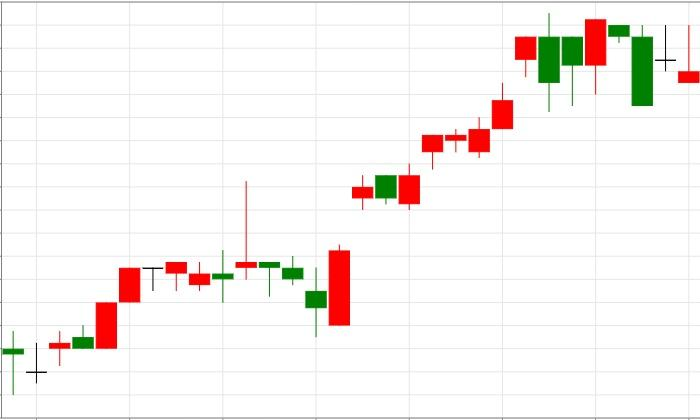bearish_engulfing_fall: (398, 14, 559, 210)
